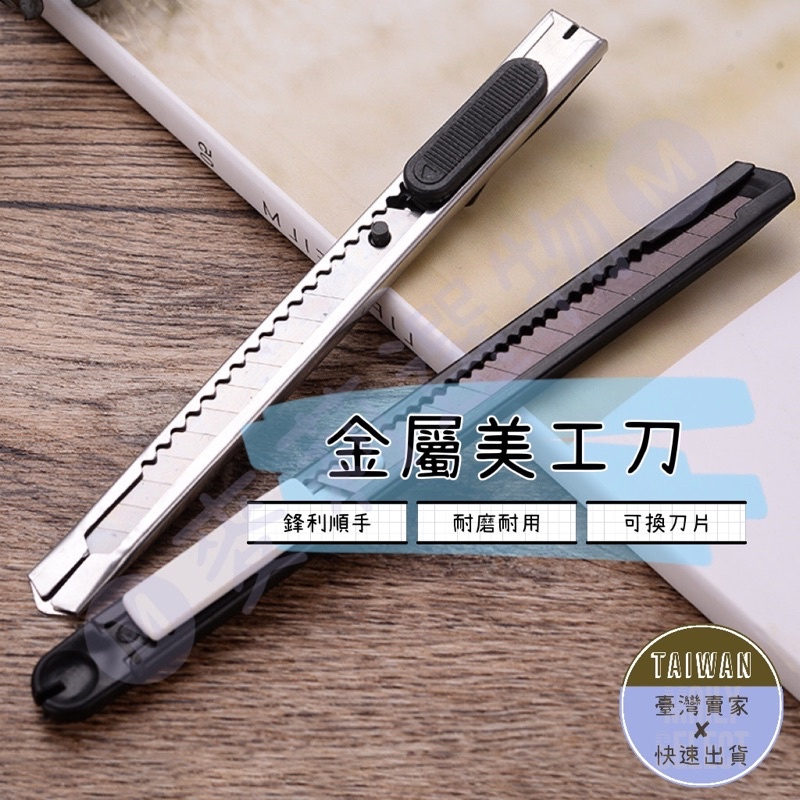cutter: (27, 159, 796, 723), (28, 10, 608, 617)
